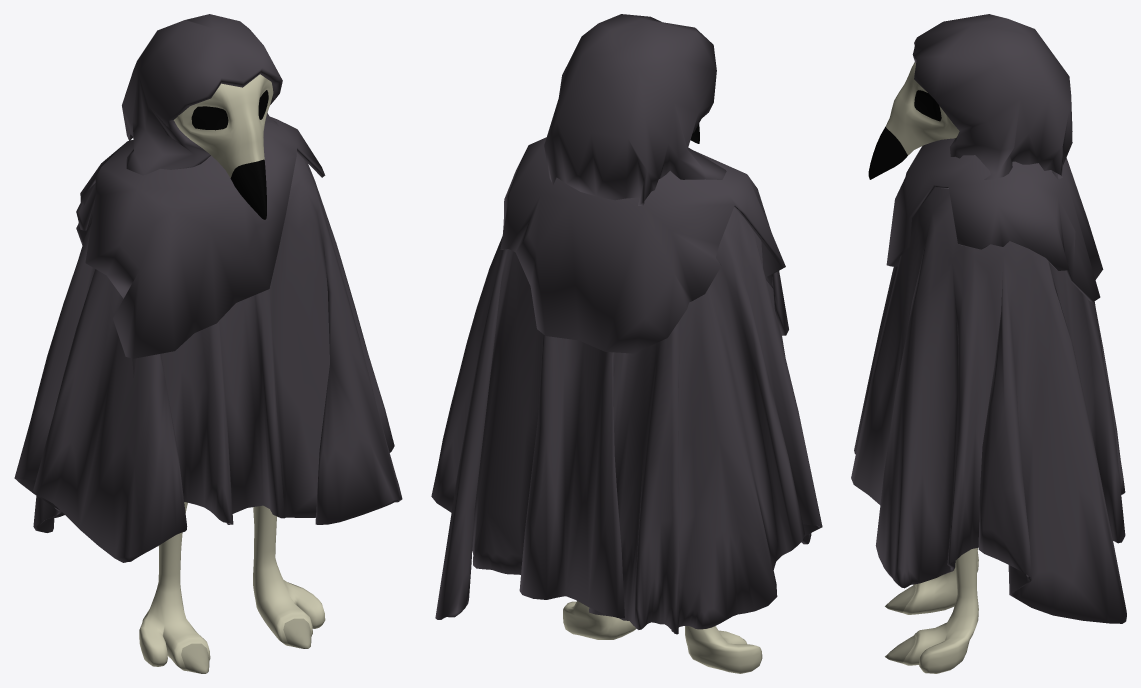
File: Grim.fbx
3 renders of one model, left to right at view 1: azimuth 30°, elevation 25°; view 2: azimuth 150°, elevation 25°; view 3: azimuth 270°, elevation 25°, orthographic. The views are drawn at different scales.
Parts seen in each view (by area): view 1: Cloak.001; view 2: Cloak.001; view 3: Cloak.001.
Part boxes in pixels (box(x1,y1,x2,y2)): Cloak.001: box(14, 14, 402, 673); Cloak.001: box(431, 14, 822, 673); Cloak.001: box(851, 14, 1126, 673).
Bounding box in the file's own units: 281 × 473 × 193.
